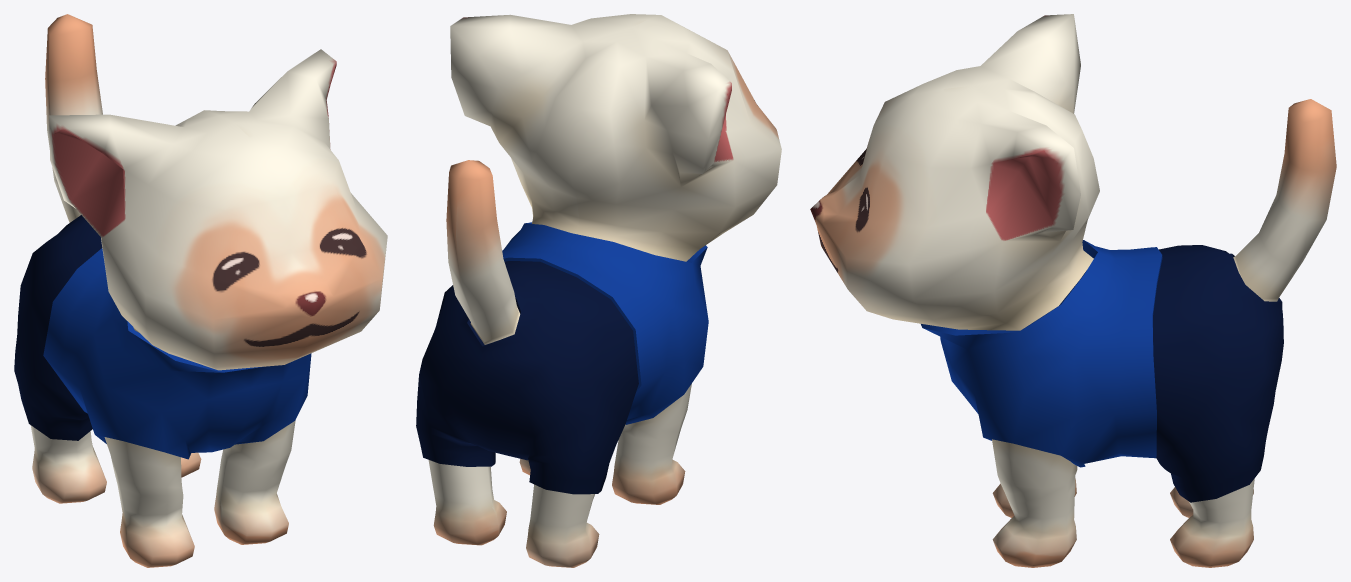
File: Athlete Cat02.fbx
3 views of the same model, side by side, from view 1: azimuth 30°, elevation 25°; view 2: azimuth 150°, elevation 25°; view 3: azimuth 270°, elevation 25° (orthographic). The views are drawn at different scales.
Visible parts, largest first — view 1: Cat_Base001, Athlete_Cat_Jersey, Athlete_Cat_Jersey_Shorts; view 2: Cat_Base001, Athlete_Cat_Jersey_Shorts, Athlete_Cat_Jersey; view 3: Cat_Base001, Athlete_Cat_Jersey, Athlete_Cat_Jersey_Shorts.
Part boxes in pixels (bbox=[...]): Cat_Base001: bbox=[30, 14, 387, 567]; Athlete_Cat_Jersey: bbox=[43, 248, 311, 459]; Athlete_Cat_Jersey_Shorts: bbox=[14, 215, 102, 440]; Cat_Base001: bbox=[428, 14, 781, 567]; Athlete_Cat_Jersey_Shorts: bbox=[416, 261, 638, 494]; Athlete_Cat_Jersey: bbox=[502, 222, 708, 424]; Cat_Base001: bbox=[810, 14, 1336, 567]; Athlete_Cat_Jersey: bbox=[921, 240, 1162, 467]; Athlete_Cat_Jersey_Shorts: bbox=[1153, 245, 1283, 502].
Size of the model in its own units: 1.75 by 2.83 by 2.68.
3 materials, 1 textured.
